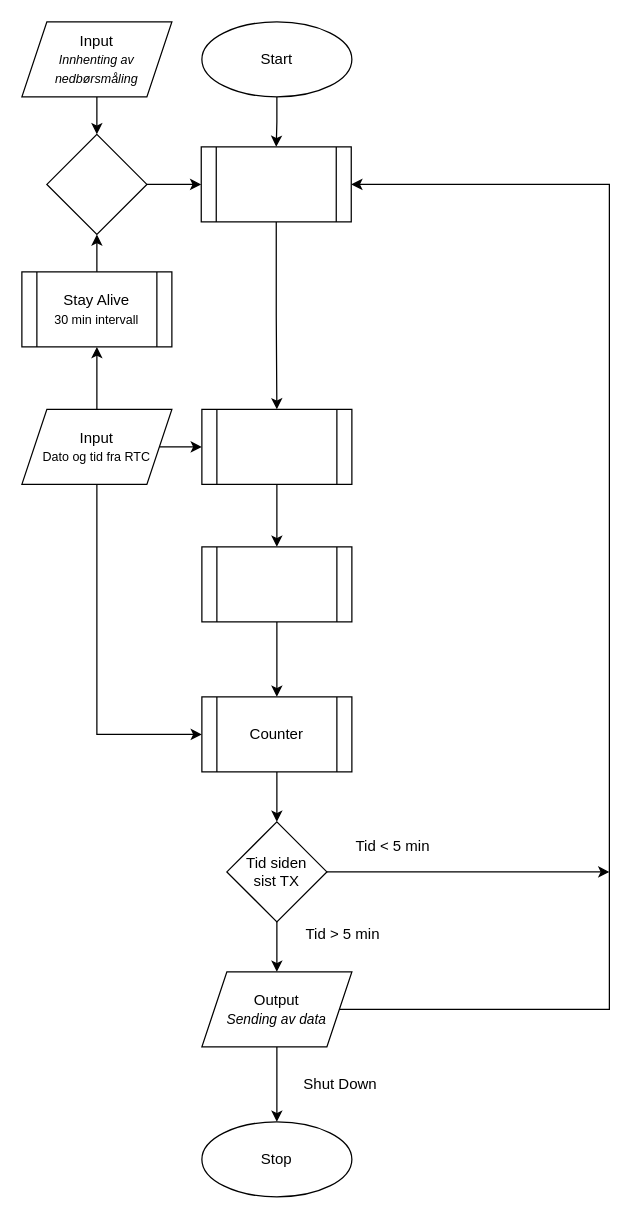
Some shapes in this 641 by 1219 pixel diagram are drawn without their labels. Here are the shapes that lost their labels. From the top down, the centre of each, then its label:
point (96, 183): Interrupt
point (275, 184): Sleep Arduino går i sleep mode for å spare strøm
point (276, 446): Timestamp Legger til timestamp fra RTC på måling/stay alive
point (276, 584): List Oppbevarer målinger i liste klar for sending
